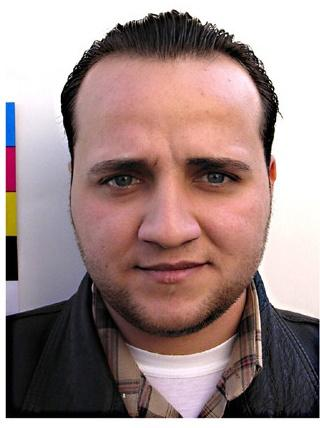No Mask: (53, 6, 288, 352)
